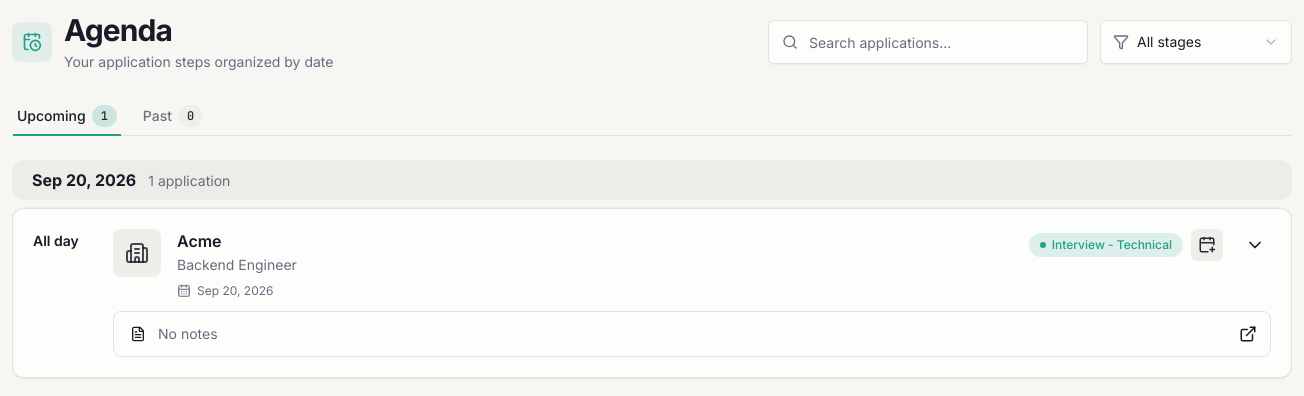
AgendaPage › shows "No interviews match your search" when a filter empties a non-empty tab
Step 1. Type "nonexistent" into the field with placeholder "Search applications..." → coordinates (928, 42), box [768,20,1088,64]
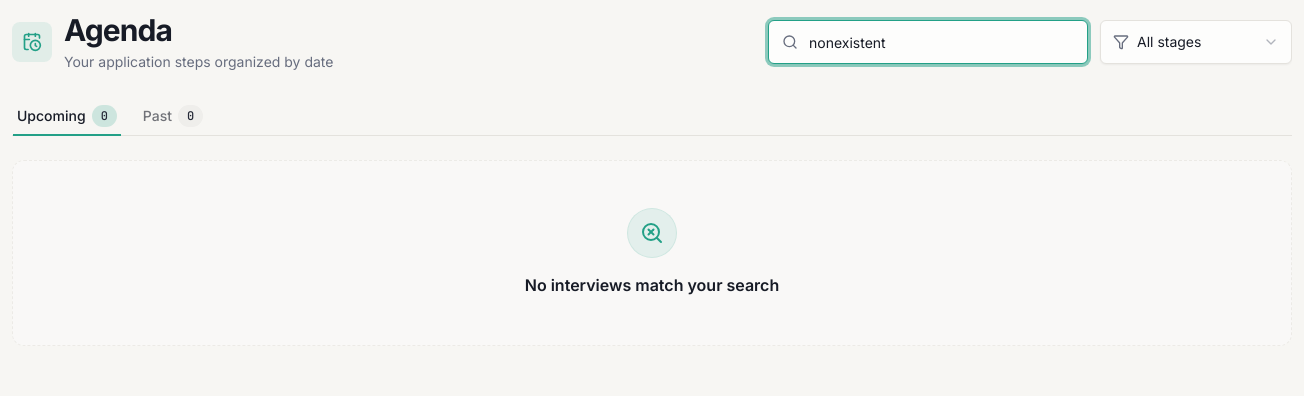
Result: the heading "No interviews match your search" is shown at [525,273,779,297]
